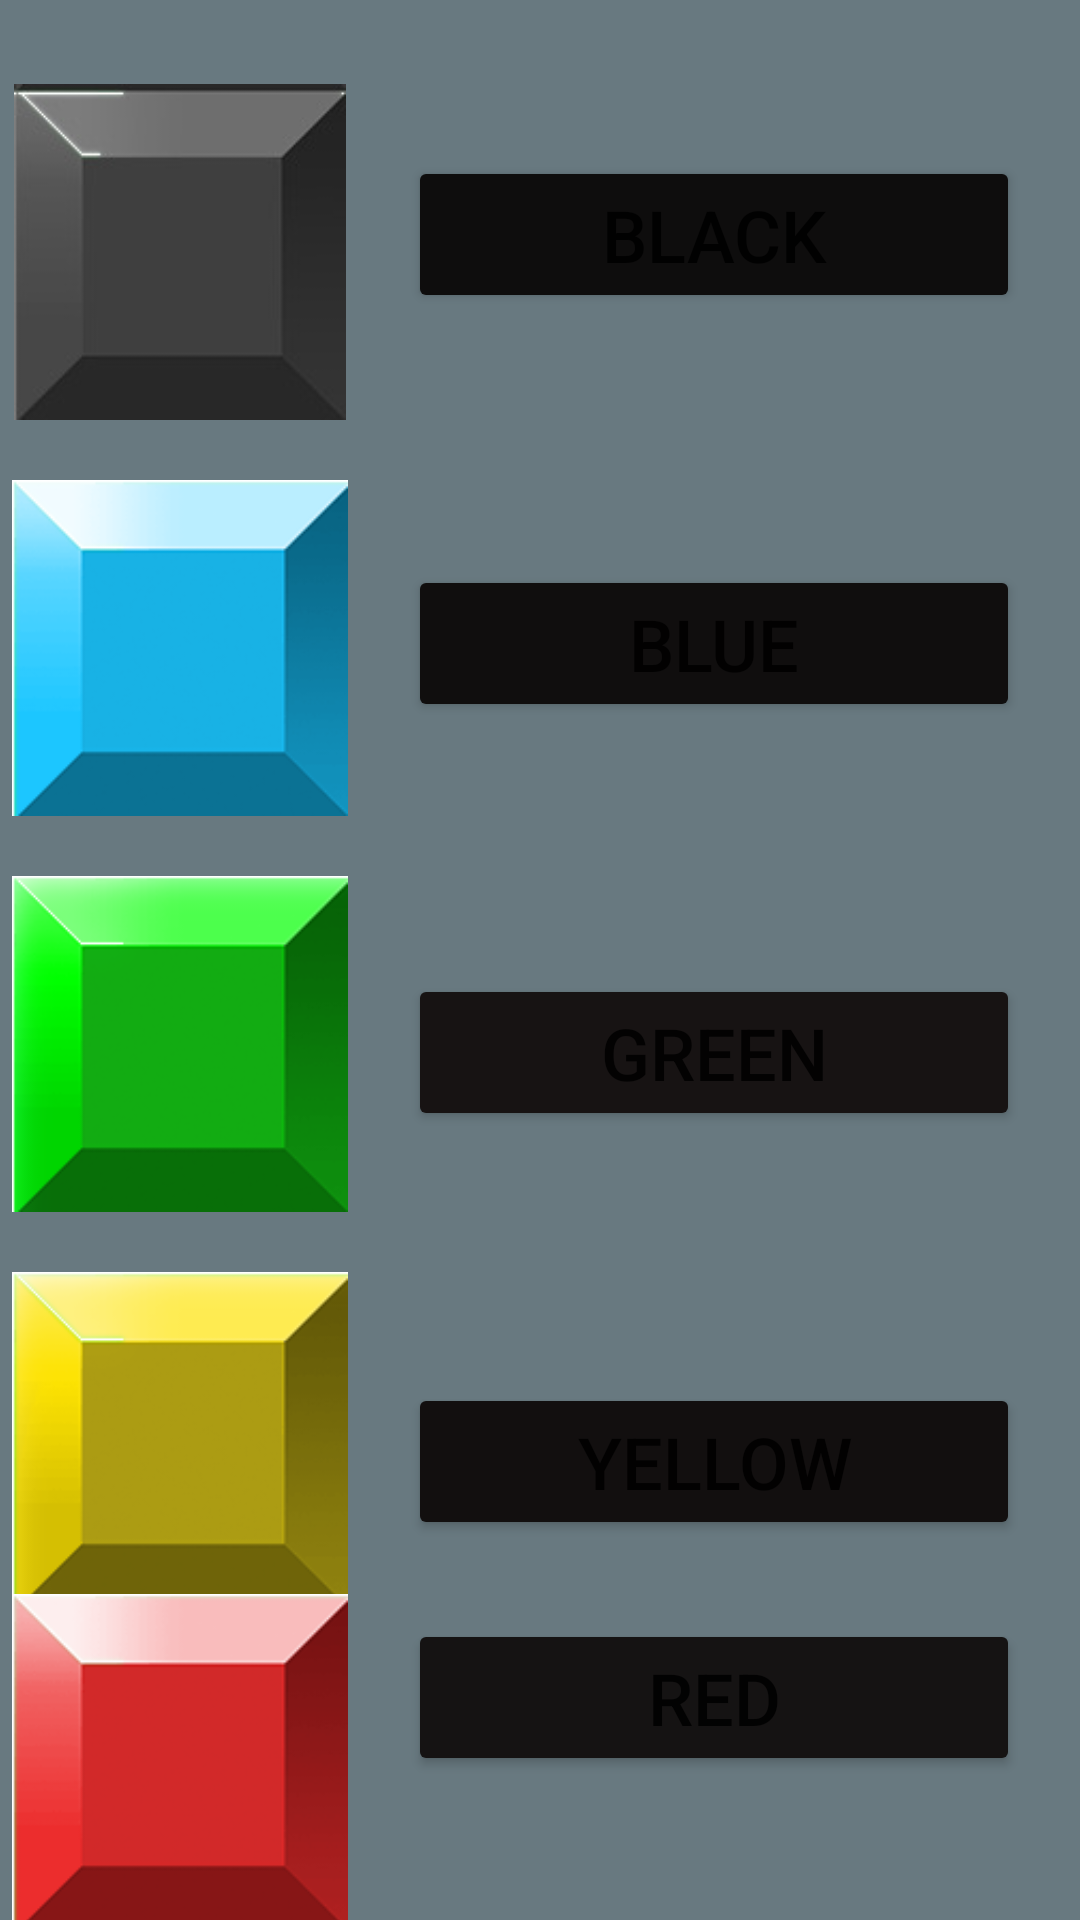

Icons on this 1080*1920 Android screen, each with the point to tap as (x=x, y=y):
boardblocks: (x=180, y=252)
reds: (x=180, y=1757)
